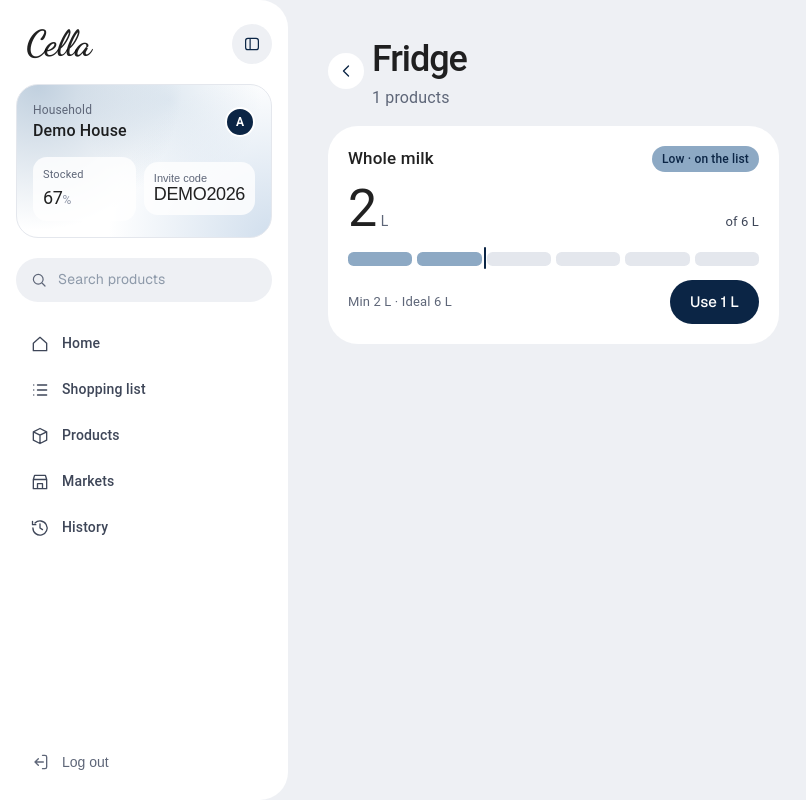
it: Cella web › consumes a product and undoes it from the snackbar
Click the button with aria-label "Use 1 L of Whole milk".
click(714, 302)  # box [670,280,759,324]
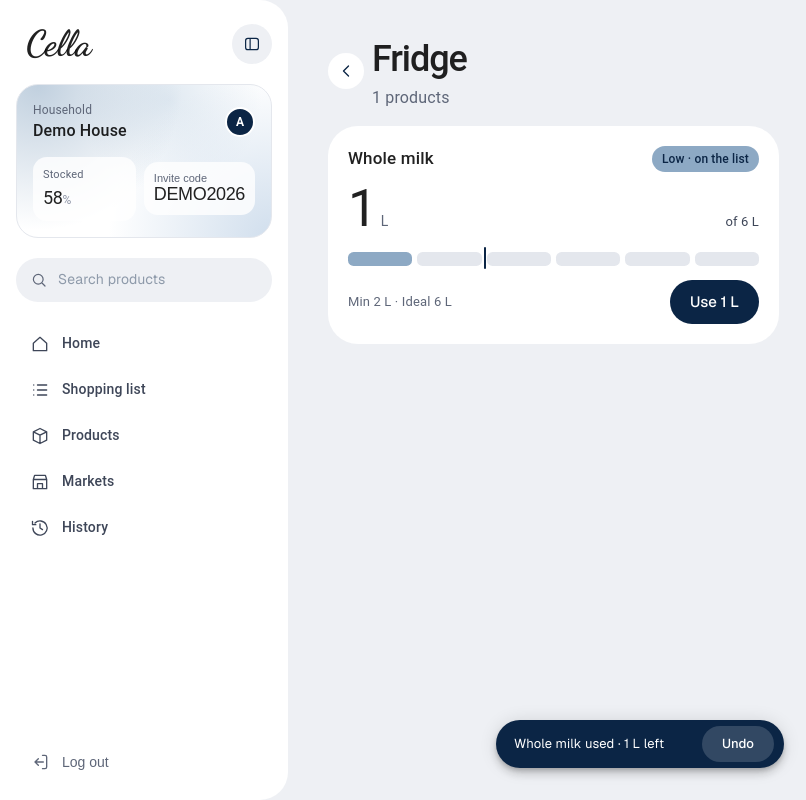
Expected: the text "Whole milk used · 1 L left" is shown, [514,735,664,752]
Click the button "Undo".
click(738, 744)  # box [702,726,774,762]
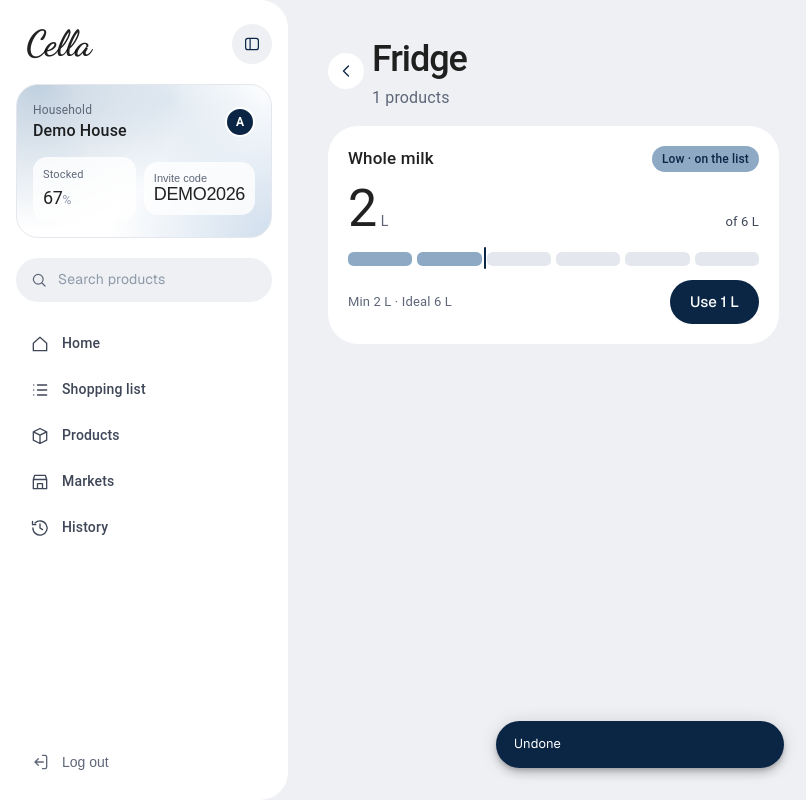
Expected: the text "Undone" is shown, [514,735,561,752]
